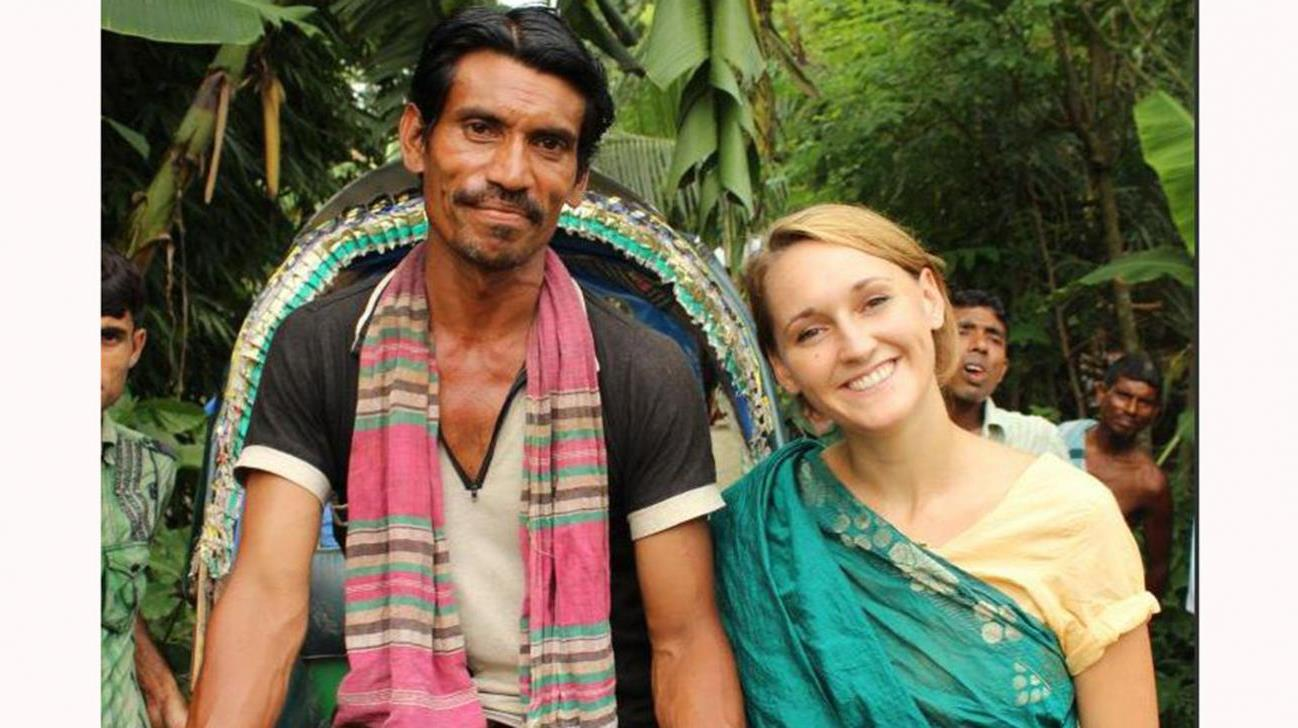Rickshaw: (209, 148, 801, 712)
